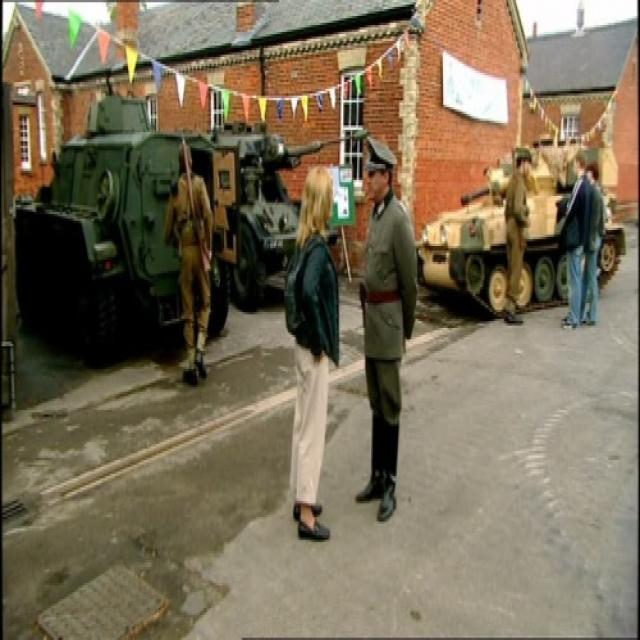rifle: (178, 133, 217, 278)
